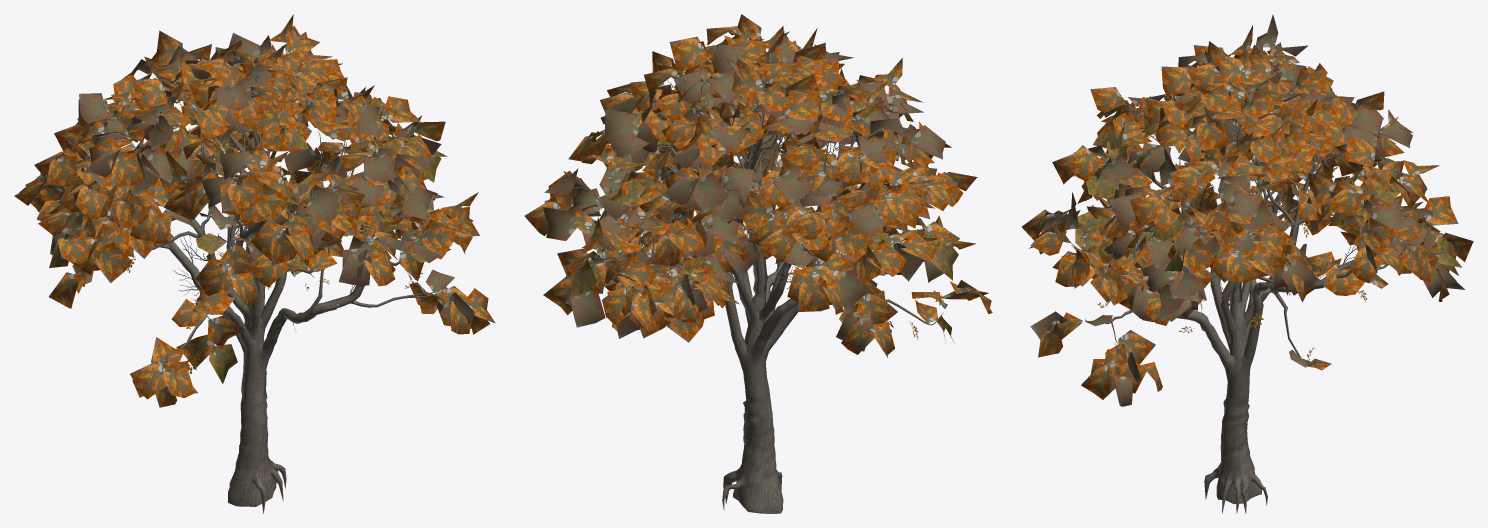
Rendered from oak-raised-fall.gltf.
3 renders of one model, left to right at view 1: azimuth 30°, elevation 25°; view 2: azimuth 150°, elevation 25°; view 3: azimuth 270°, elevation 25°, orthographic. The views are drawn at different scales.
Parts seen in each view (by area): view 1: White oak raised crown fall; view 2: White oak raised crown fall; view 3: White oak raised crown fall.
Boxes of the visible parts, x1=… form: White oak raised crown fall: x1=14, y1=14, x2=495, y2=513; White oak raised crown fall: x1=524, y1=14, x2=992, y2=513; White oak raised crown fall: x1=1021, y1=14, x2=1473, y2=513.
Bounding box in the file's own units: 1009 × 1174 × 1087.
Materials: 6 (6 with a texture image).
